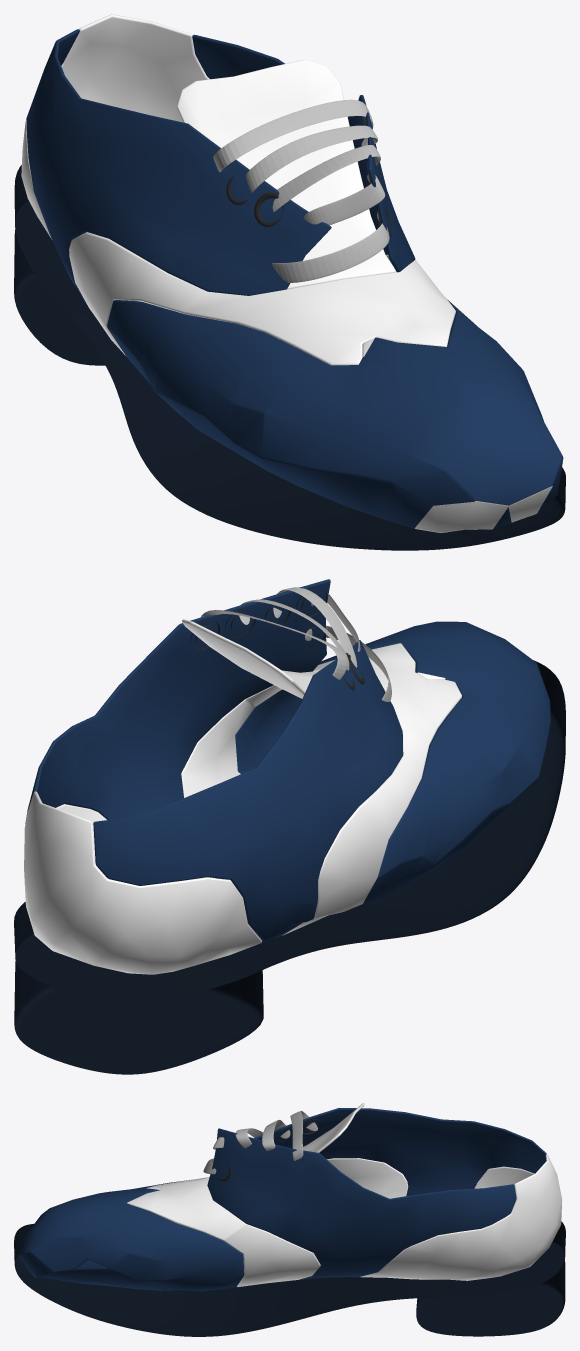
The model's file is za2pri1derecha.fbx.
3 views of the same model, one above another, from view 1: azimuth 30°, elevation 25°; view 2: azimuth 150°, elevation 25°; view 3: azimuth 270°, elevation 25° (orthographic). The views are drawn at different scales.
Parts seen in each view (by area): view 1: zapato2, Plane, Plane.004, Plane.005, Plane.003, Plane.001, Plane.002; view 2: zapato2, Plane, Plane.001, Plane.004; view 3: zapato2, Plane, Plane.004, Plane.003, Plane.001.
Boxes of the visible parts, <box> form: zapato2: <box>21,14,563,532</box>; Plane: <box>14,165,565,550</box>; Plane.004: <box>213,99,373,171</box>; Plane.005: <box>272,212,389,282</box>; Plane.003: <box>246,125,377,192</box>; Plane.001: <box>272,145,380,211</box>; Plane.002: <box>303,174,385,225</box>; zapato2: <box>24,579,550,974</box>; Plane: <box>14,660,565,1074</box>; Plane.001: <box>273,587,357,667</box>; Plane.004: <box>200,610,347,679</box>; zapato2: <box>18,1103,562,1291</box>; Plane: <box>14,1221,565,1336</box>; Plane.004: <box>290,1110,317,1160</box>; Plane.003: <box>262,1119,290,1150</box>; Plane.001: <box>235,1128,262,1148</box>.
Size of the model in its own units: 169 by 176 by 447.
